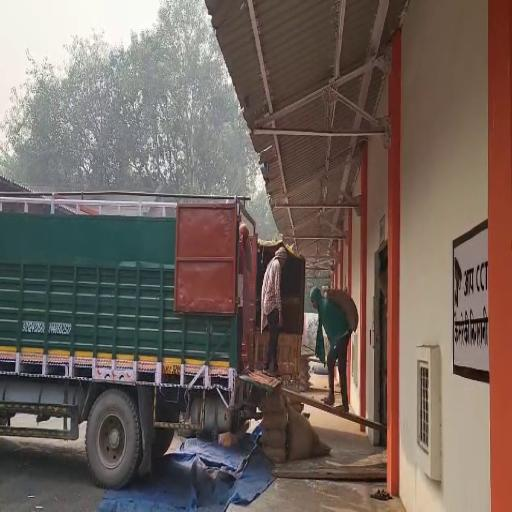bag: (323, 283, 359, 334)
